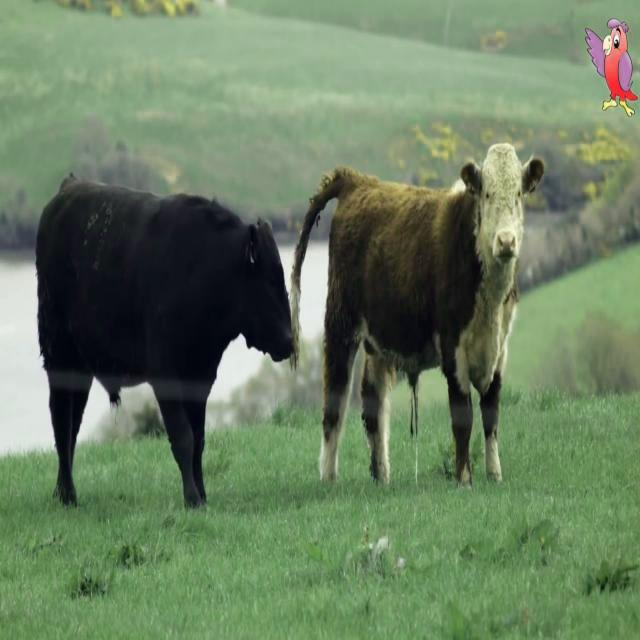cow: (292, 144, 544, 483), (36, 178, 294, 508)
